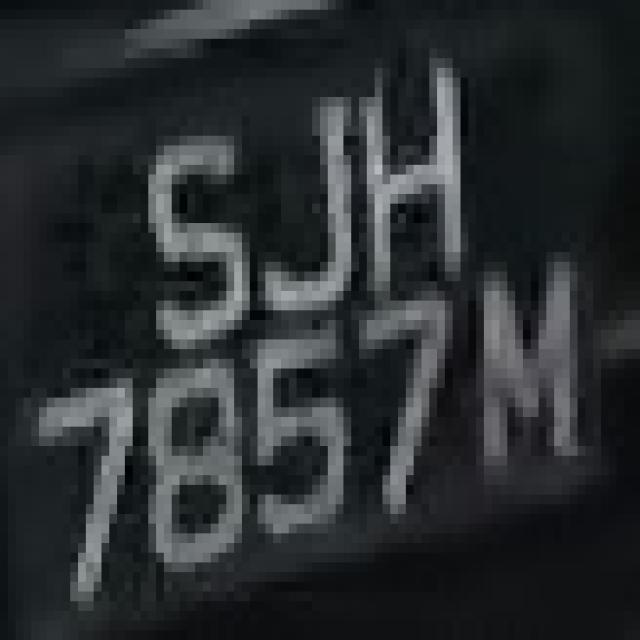5: (234, 301, 359, 572)
7: (336, 262, 468, 533), (8, 359, 132, 630)
8: (125, 359, 257, 611)
H: (344, 48, 476, 300)
J: (234, 68, 359, 310)
M: (460, 252, 601, 495)
S: (109, 126, 250, 369)
